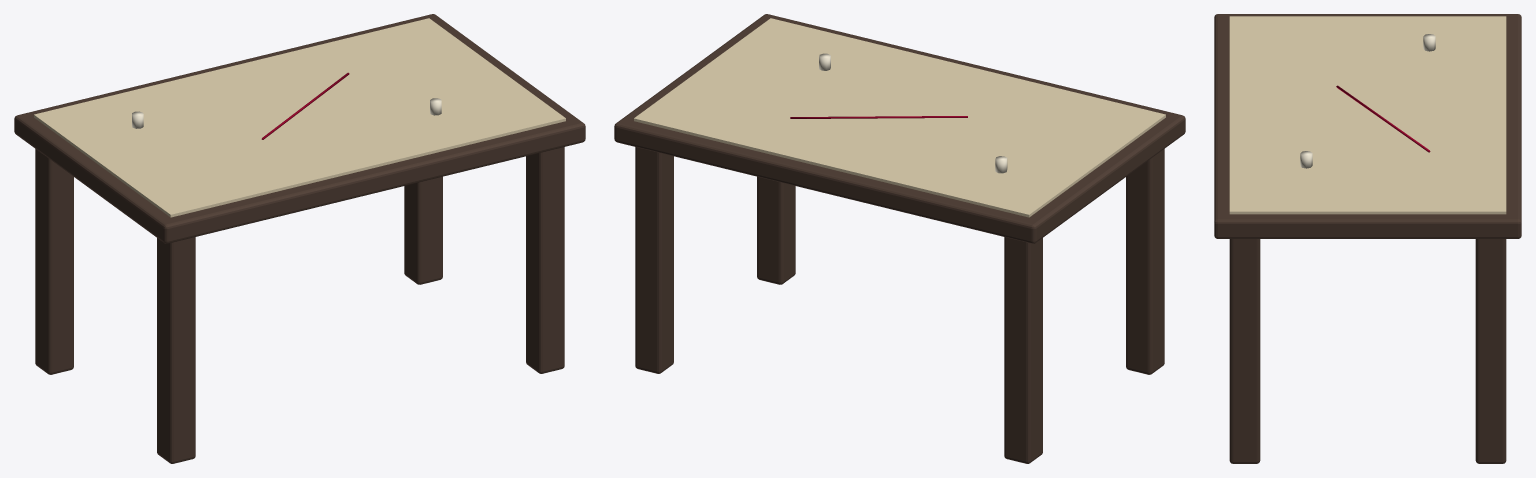
File: study_furniture_map_table.glb
3 renders of one model, left to right at view 1: azimuth 30°, elevation 25°; view 2: azimuth 150°, elevation 25°; view 3: azimuth 270°, elevation 25°, orthographic.
Parts seen in each view (by area): view 1: GD_study_furniture_map_table__m1, GD_study_furniture_map_table__m0; view 2: GD_study_furniture_map_table__m1, GD_study_furniture_map_table__m0; view 3: GD_study_furniture_map_table__m1, GD_study_furniture_map_table__m0, GD_study_furniture_map_table__m2, GD_study_furniture_map_table__m3.
Part boxes in pixels (x1,y1,x2,y2): GD_study_furniture_map_table__m1: [34, 18, 565, 217]; GD_study_furniture_map_table__m0: [14, 14, 585, 463]; GD_study_furniture_map_table__m1: [634, 18, 1165, 217]; GD_study_furniture_map_table__m0: [614, 14, 1185, 463]; GD_study_furniture_map_table__m1: [1229, 16, 1506, 214]; GD_study_furniture_map_table__m0: [1214, 14, 1521, 463]; GD_study_furniture_map_table__m2: [1300, 34, 1435, 168]; GD_study_furniture_map_table__m3: [1336, 85, 1430, 152].
Bounding box in the file's own units: 1.6 × 0.955 × 1.
